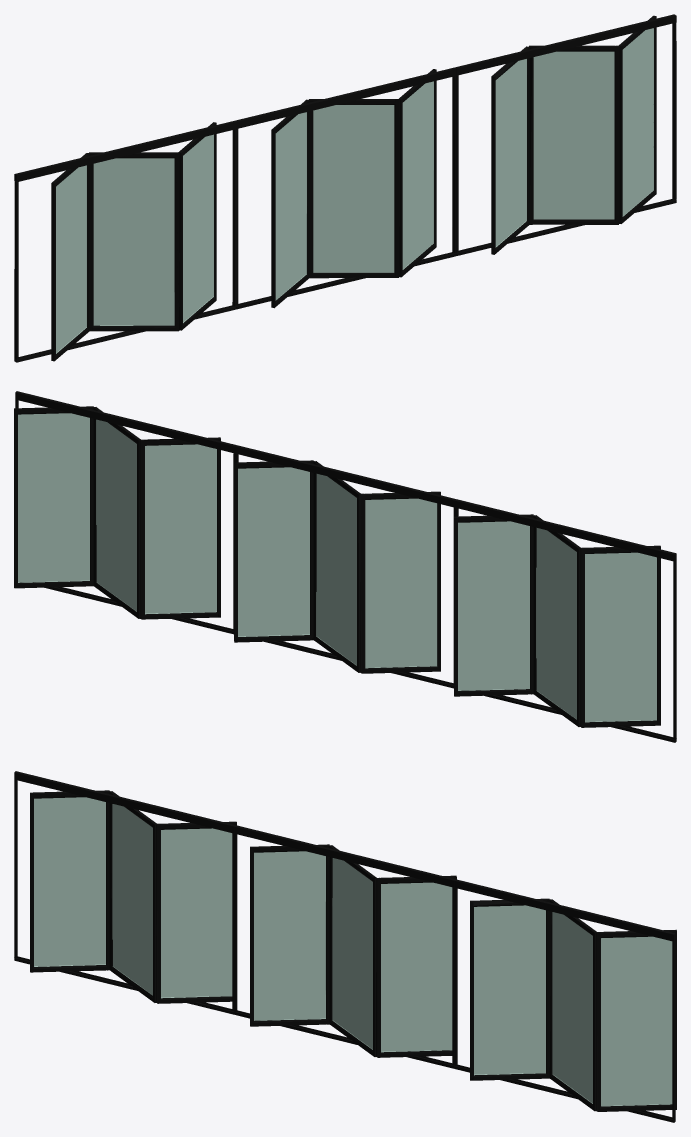
File: windows 1.FBX
3 renders of one model, top to bottom at view 1: azimuth 30°, elevation 25°; view 2: azimuth 150°, elevation 25°; view 3: azimuth 330°, elevation 25°, orthographic.
Parts seen in each view (by area): view 1: windows 1; view 2: windows 1; view 3: windows 1.
Boxes of the visible parts, box(x1,y1,x2,y2) form: windows 1: box(14, 14, 676, 362); windows 1: box(14, 391, 676, 742); windows 1: box(14, 771, 676, 1122).
Size of the model in its own units: 7738 by 502 by 2102.
